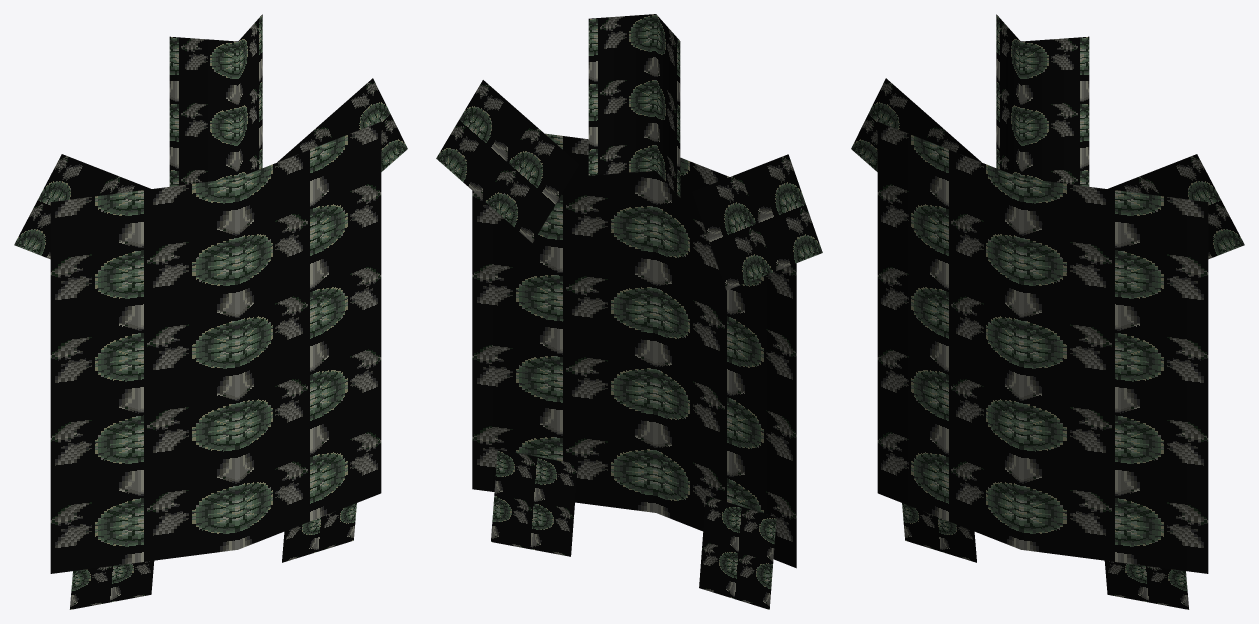
File: 5028musi38_e.gltf
3 views of the same model, side by side, from view 1: azimuth 30°, elevation 25°; view 2: azimuth 150°, elevation 25°; view 3: azimuth 330°, elevation 25° (orthographic).
Visible parts, largest first — view 1: 5028musi38_e; view 2: 5028musi38_e; view 3: 5028musi38_e.
Part boxes in pixels (x1,y1,x2,y2): 5028musi38_e: [14, 14, 407, 609]; 5028musi38_e: [436, 14, 822, 609]; 5028musi38_e: [851, 14, 1244, 609].
Bounding box in the file's own units: 0.2065 × 0.2771 × 0.0247.
1 material, 1 textured.
